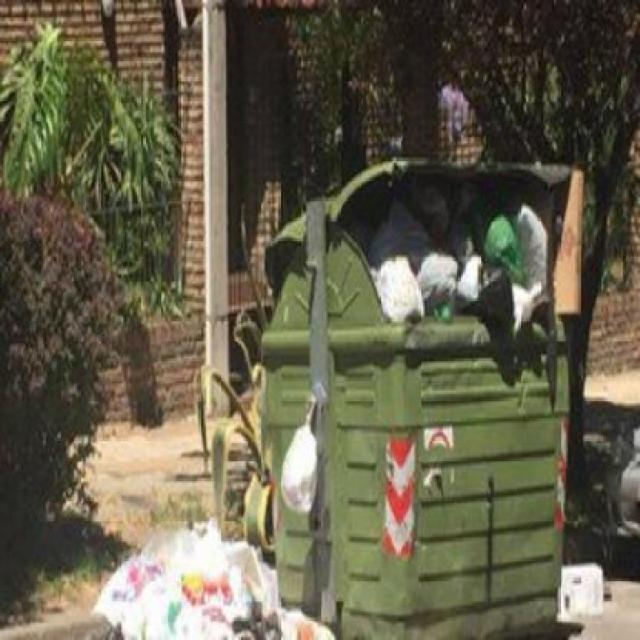garbage: (354, 177, 570, 314), (117, 545, 332, 639), (274, 377, 334, 542)
